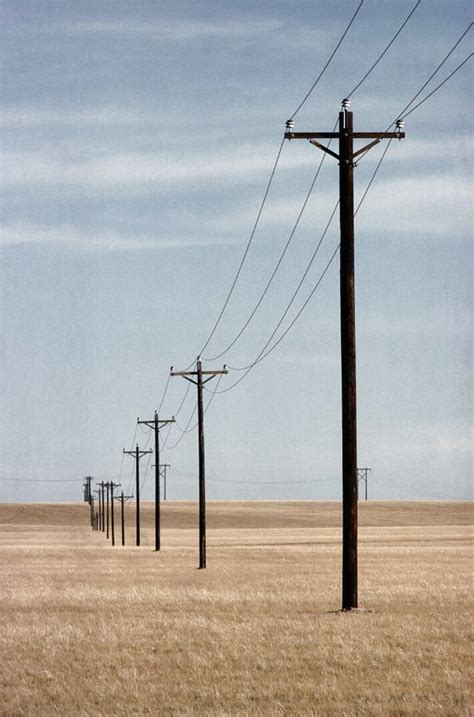pole: (257, 77, 452, 636)
